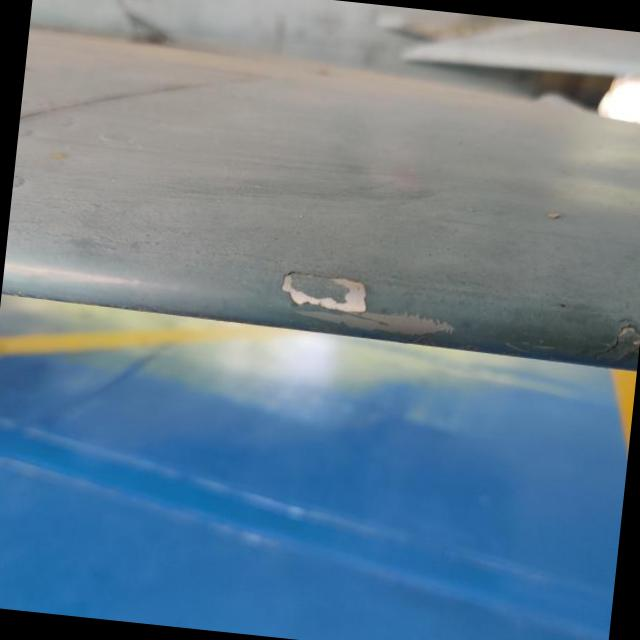Paint-off: (275, 264, 461, 340), (575, 312, 640, 370)
